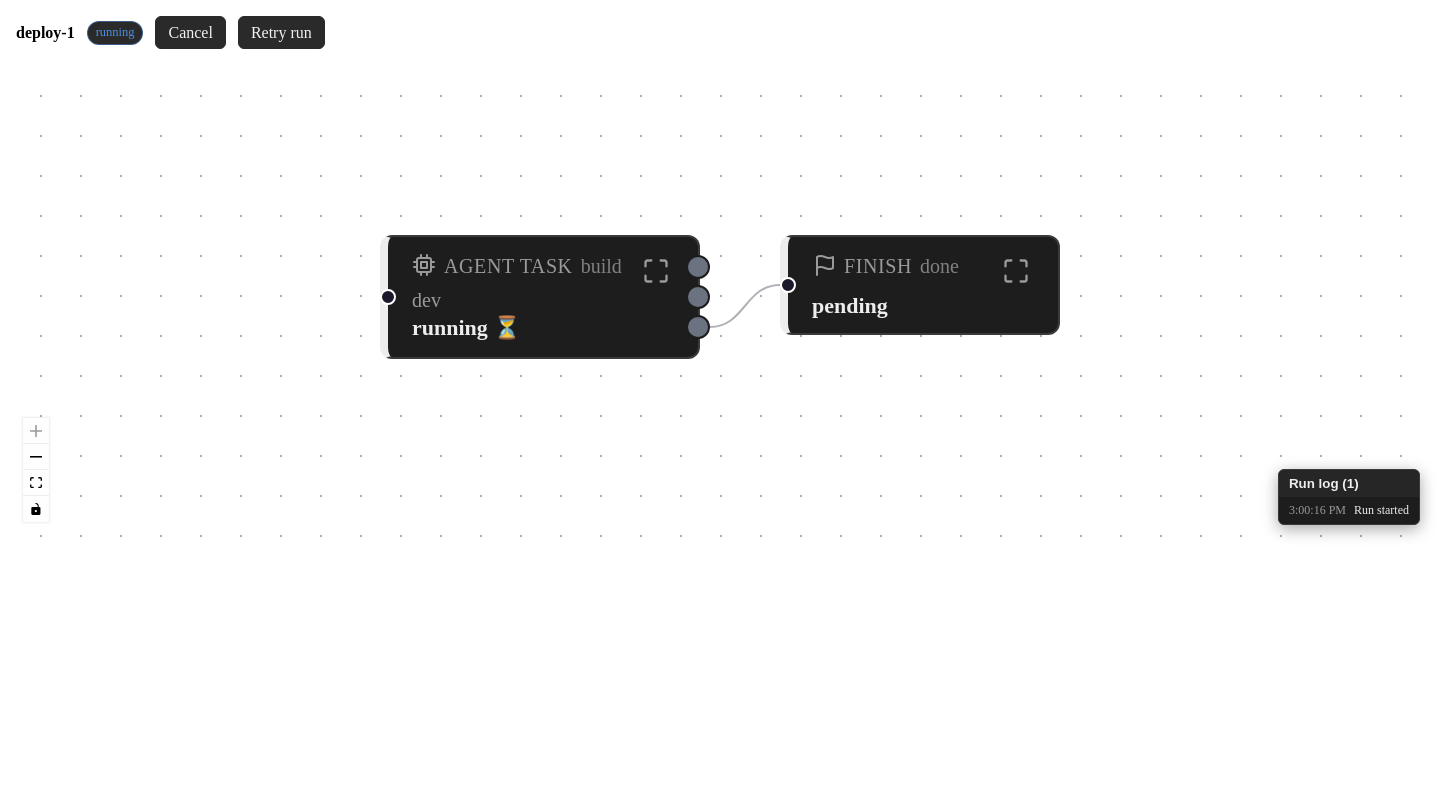
Test: RunInspector › surfaces a pending command approval on an active node
Expected: the text "deploy-1" is shown, [16,24,75,42]
Expected: the element showing "Agent task build dev running ⏳" is shown, [380,235,700,359]
Click the button named "Open node build". click: (656, 271)
box: [638,253,674,289]
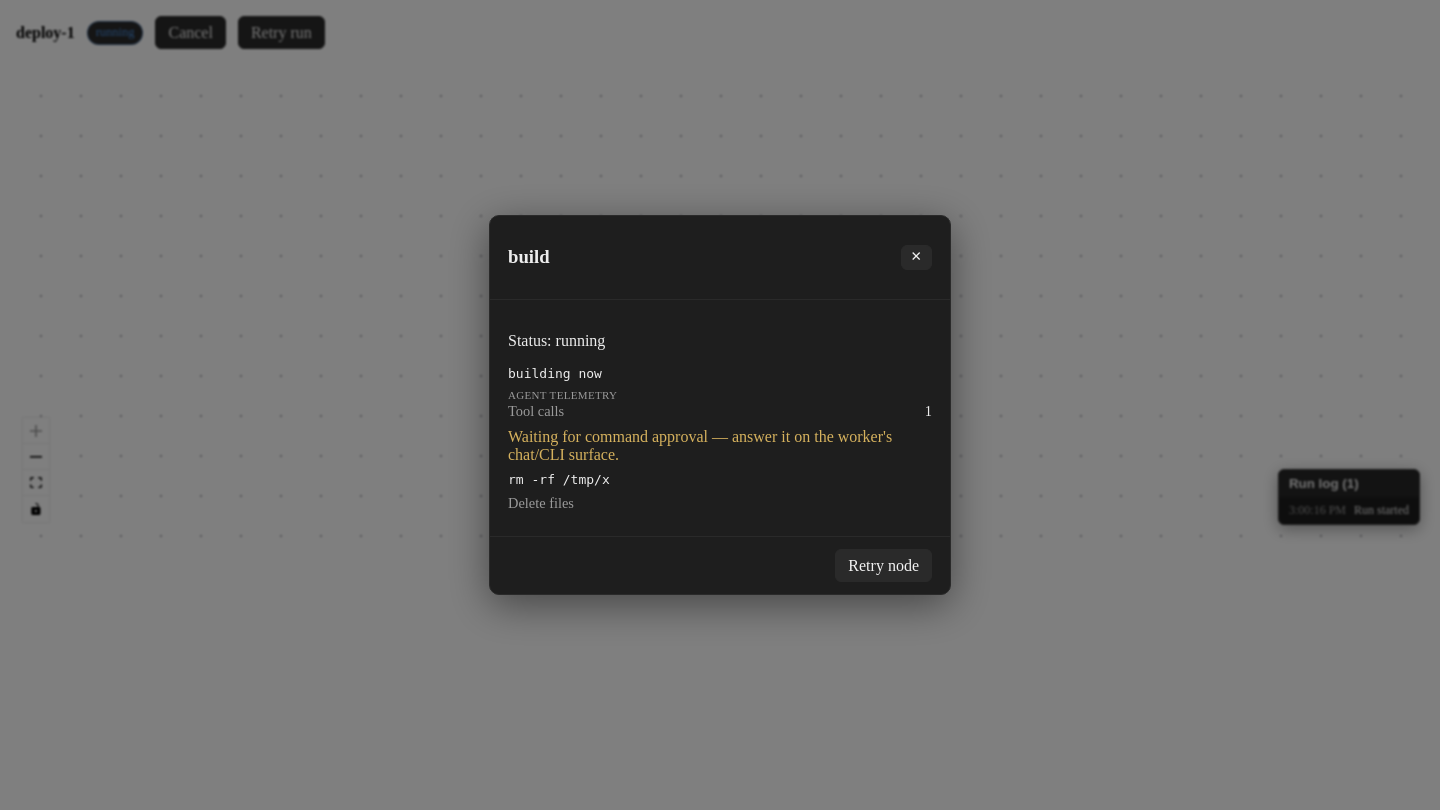
Result: the text "Waiting for command approval" is shown at [508,428,892,463]
Result: the text "rm -rf /tmp/x" is shown at [508,472,610,487]
